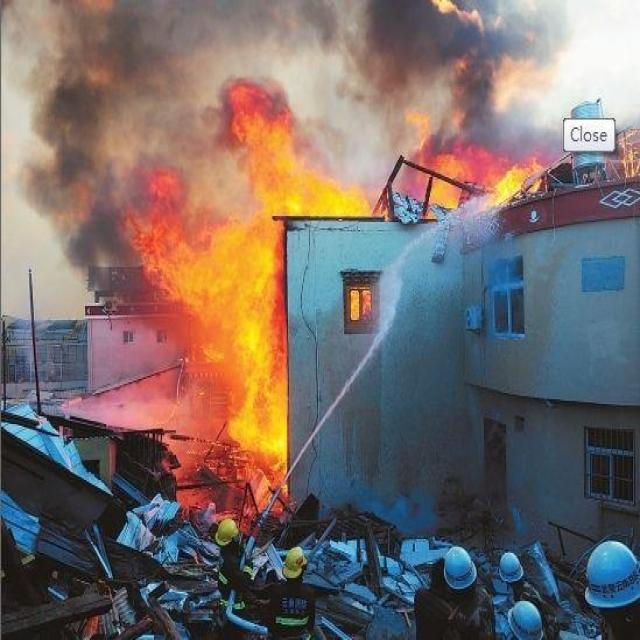fire: (105, 68, 288, 506), (233, 88, 536, 208), (342, 280, 373, 320)
other: (207, 509, 242, 550), (285, 542, 309, 581)
